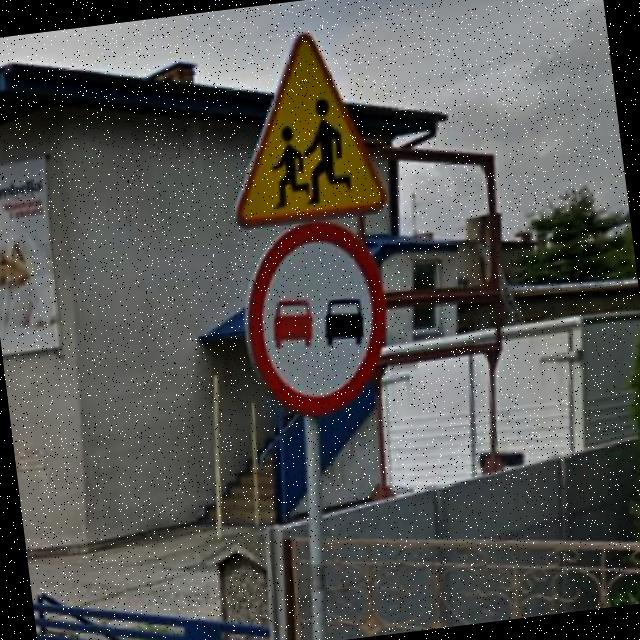Dzieci: (211, 23, 388, 230)
Zakaz wyprzedzania: (234, 213, 401, 426)
